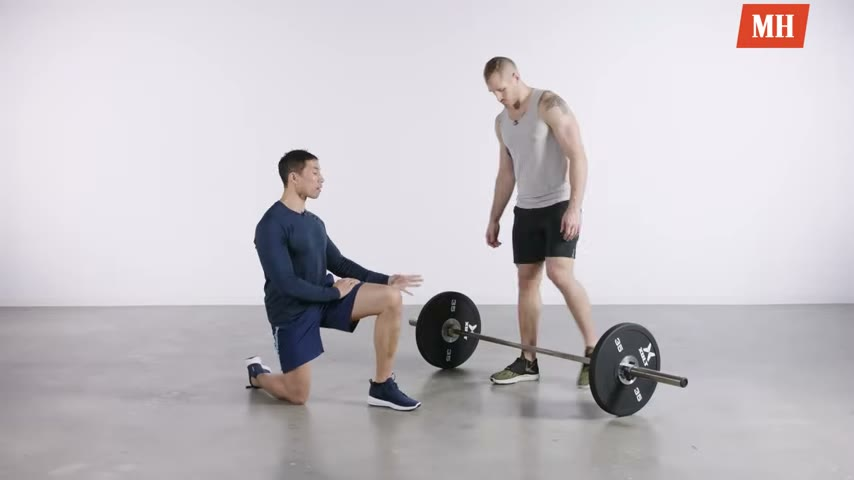barbell_plate_side: (411, 287, 482, 416), (605, 317, 688, 427)
